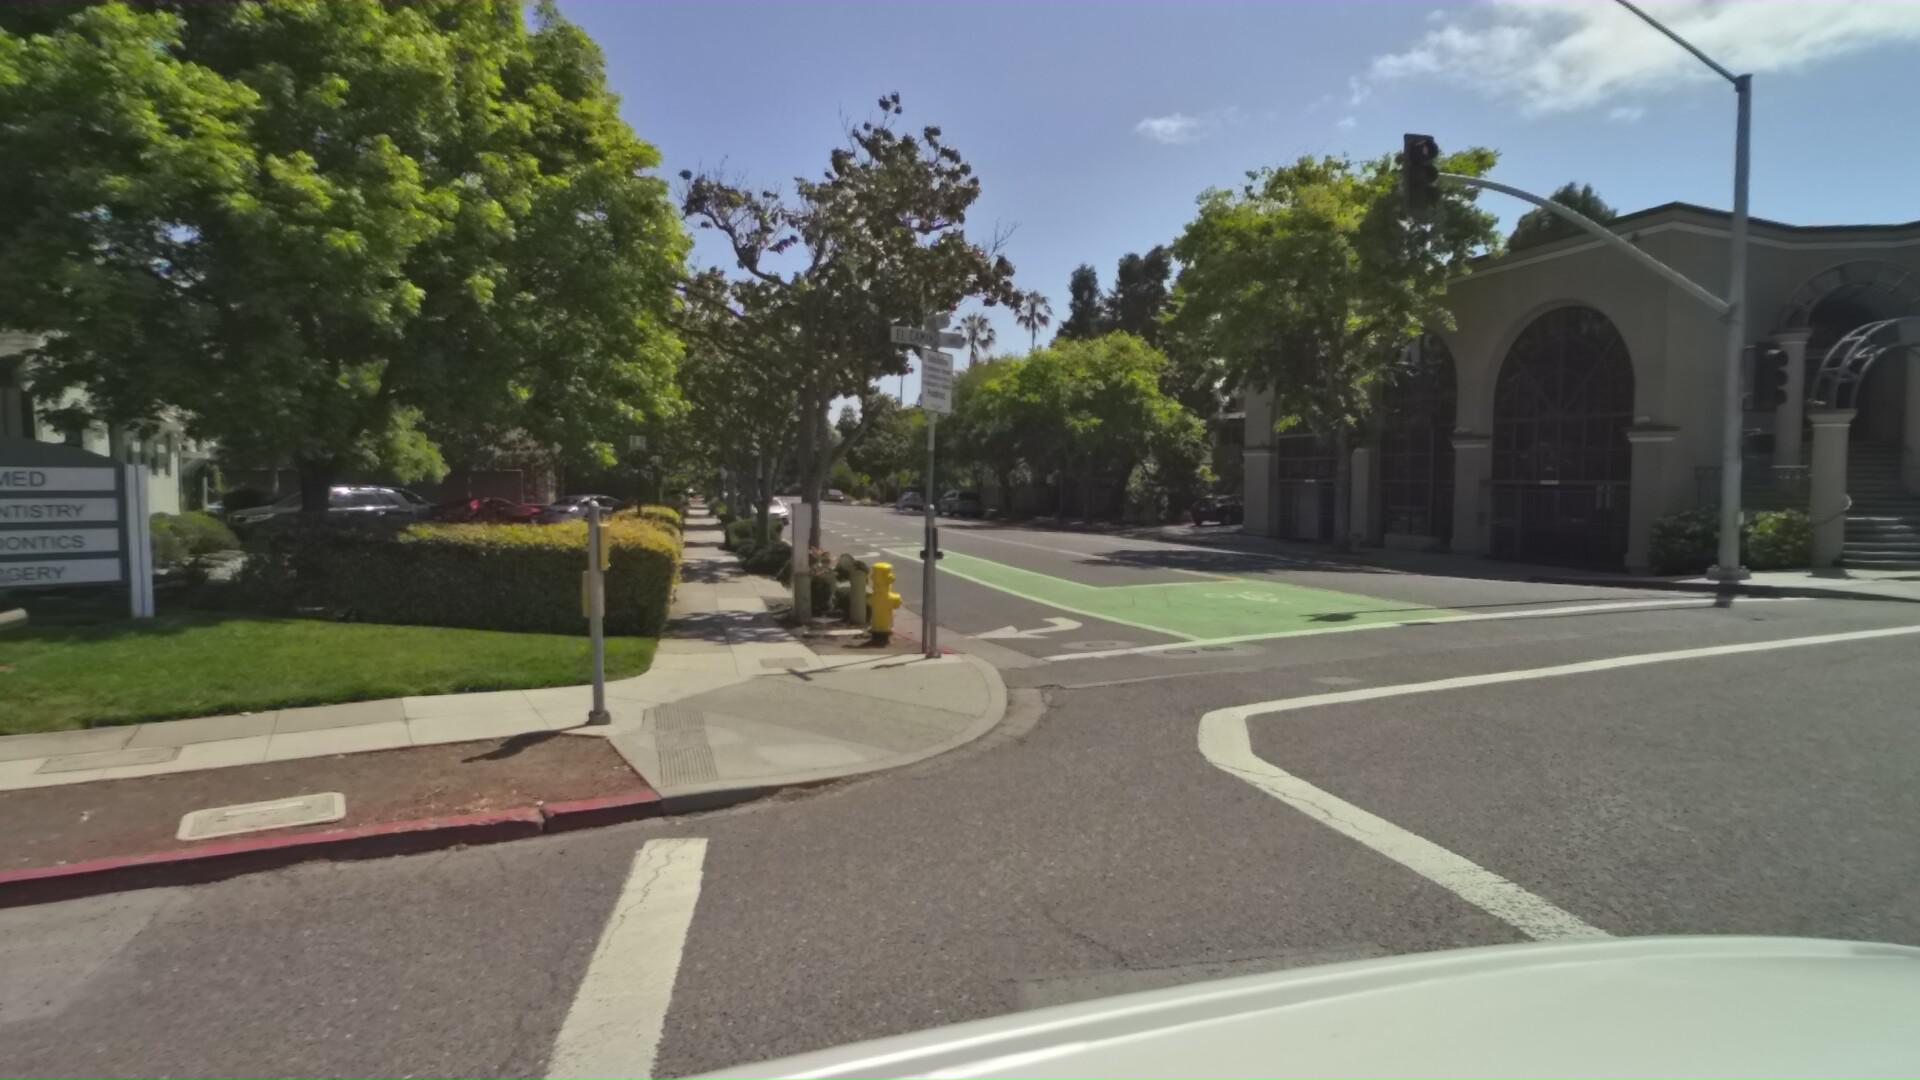car: (233, 483, 444, 558), (433, 491, 555, 531), (545, 489, 665, 530), (1185, 483, 1276, 524), (749, 491, 798, 524), (938, 487, 986, 517), (893, 483, 930, 506)
